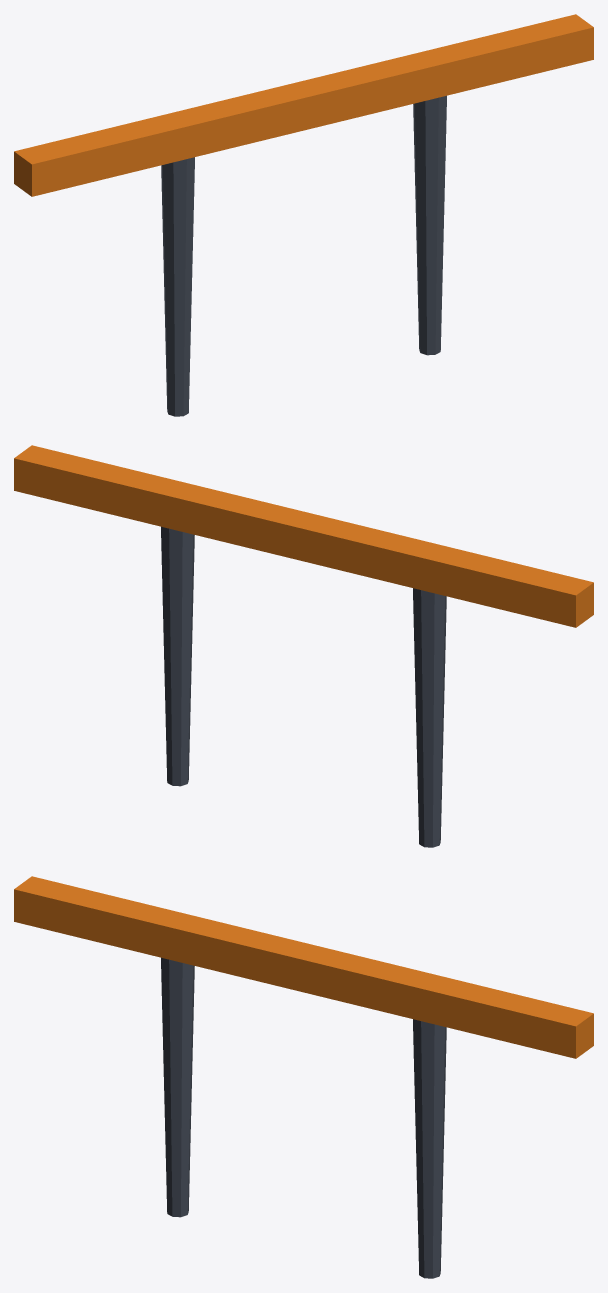
The model's file is void-station__jump_gate.obj.
The picture shows the model from 3 angles, top to bottom: view 1: azimuth 30°, elevation 25°; view 2: azimuth 150°, elevation 25°; view 3: azimuth 330°, elevation 25°; orthographic projection.
Visible parts, largest first — view 1: beacon, pylons; view 2: beacon, pylons; view 3: beacon, pylons.
Boxes of the visible parts, x1=… form: beacon: x1=14, y1=14, x2=593, y2=196; pylons: x1=161, y1=95, x2=446, y2=416; beacon: x1=14, y1=445, x2=593, y2=627; pylons: x1=161, y1=526, x2=446, y2=847; beacon: x1=14, y1=876, x2=593, y2=1058; pylons: x1=161, y1=957, x2=446, y2=1278.
Size of the model in its own units: 5.8 by 2.88 by 0.32.
